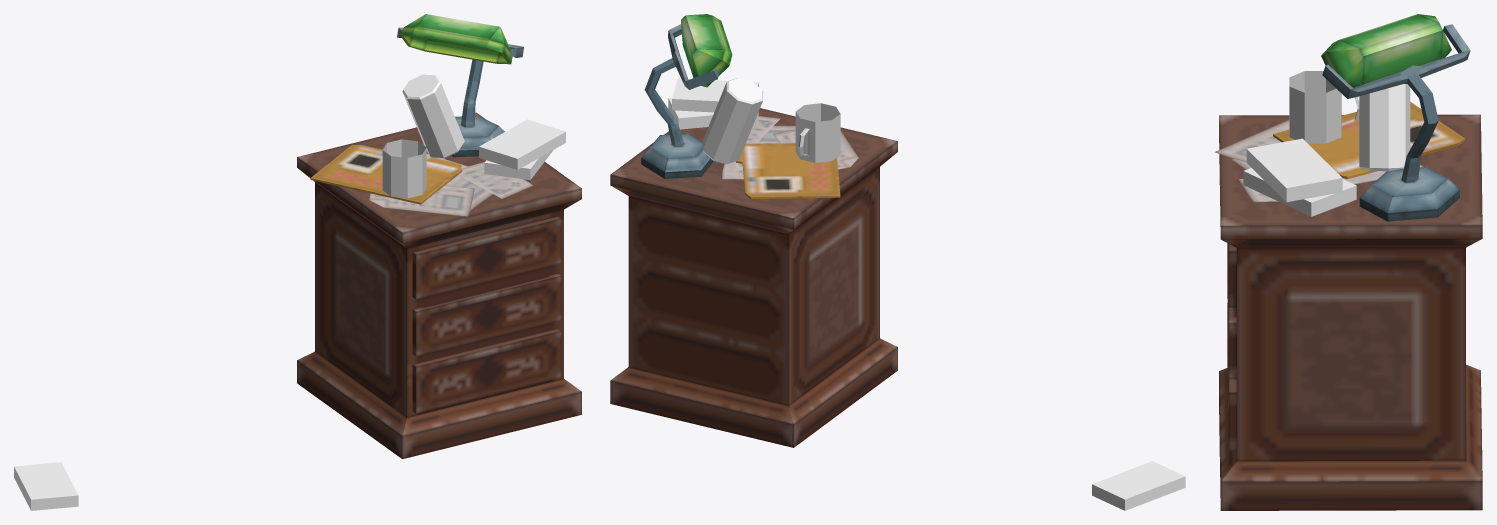
File: finalRender.glb
3 views of the same model, side by side, from view 1: azimuth 30°, elevation 25°; view 2: azimuth 150°, elevation 25°; view 3: azimuth 270°, elevation 25° (orthographic). The views are drawn at different scales.
Parts seen in each view (by area): view 1: desk, file, Can, Book3, mug, Book1, Book2; view 2: desk, file, Can, Book1, mug, Book3, Book2; view 3: desk, Can, Book3, mug, file, Book2.
Part boxes in pixels (box(x1,y1,x2,y2)): desk: box(297, 14, 581, 459); file: box(310, 145, 462, 204); Can: box(402, 74, 464, 158); Book3: box(479, 119, 565, 169); mug: box(382, 139, 426, 198); Book1: box(14, 462, 78, 510); Book2: box(484, 150, 553, 180); desk: box(610, 14, 897, 447); file: box(736, 143, 840, 198); Can: box(702, 78, 763, 164); Book1: box(1092, 461, 1185, 510); mug: box(795, 103, 840, 162); Book3: box(672, 78, 758, 112); Book2: box(668, 97, 758, 129); desk: box(1214, 14, 1482, 510); Can: box(1359, 84, 1410, 171); Book3: box(1246, 138, 1342, 202); mug: box(1289, 71, 1359, 143); file: box(1273, 102, 1464, 179); Book2: box(1243, 168, 1356, 216).
Size of what is drawn, in the model's own units: 0.9147 by 0.6039 by 0.326.
4 materials, 1 textured.
